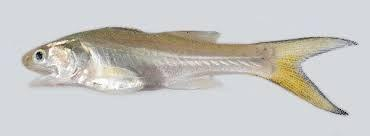Fourfinger Threadfish: (22, 24, 358, 119)
